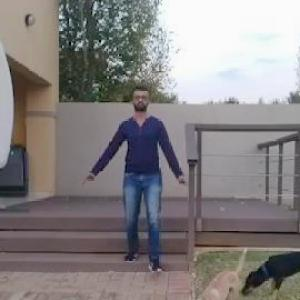land: (95, 95, 186, 264)
